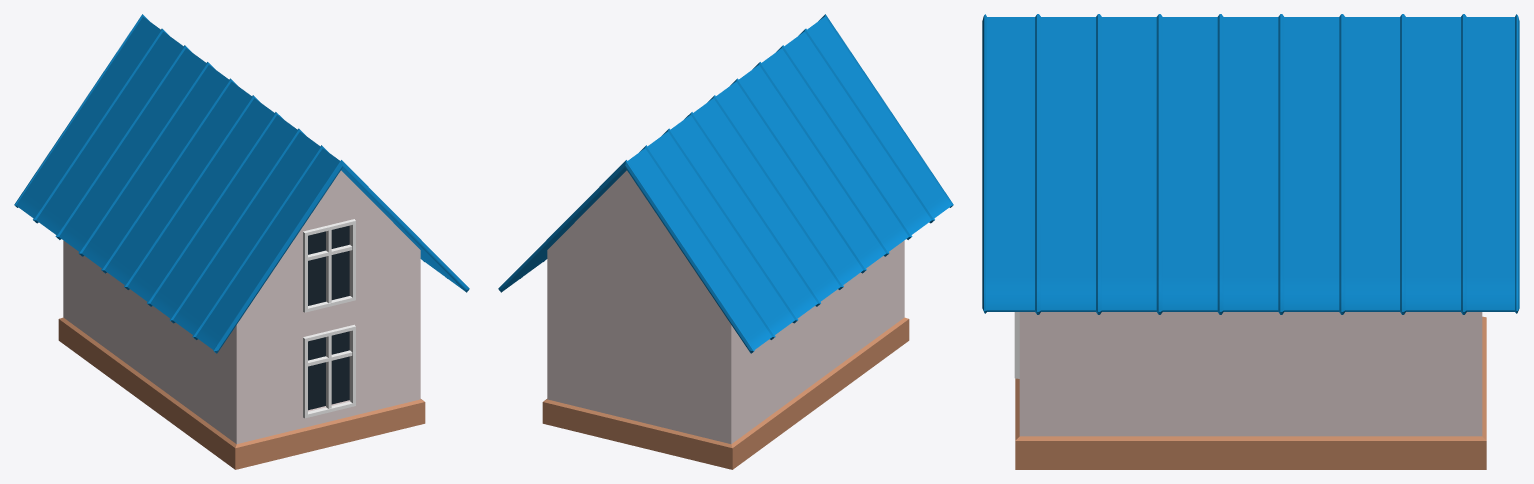
The model's file is Semi_House01.fbx.
The picture shows the model from 3 angles, left to right: view 1: azimuth 30°, elevation 25°; view 2: azimuth 150°, elevation 25°; view 3: azimuth 270°, elevation 25°; orthographic projection. The views are drawn at different scales.
Parts seen in each view (by area): view 1: SemiHouse01; view 2: SemiHouse01; view 3: SemiHouse01.
Part boxes in pixels (left/top/right/bottom): SemiHouse01: left=14, top=14, right=469, bottom=469; SemiHouse01: left=498, top=14, right=953, bottom=469; SemiHouse01: left=982, top=14, right=1519, bottom=469.
Size of the model in its own units: 133 by 180 by 146.
